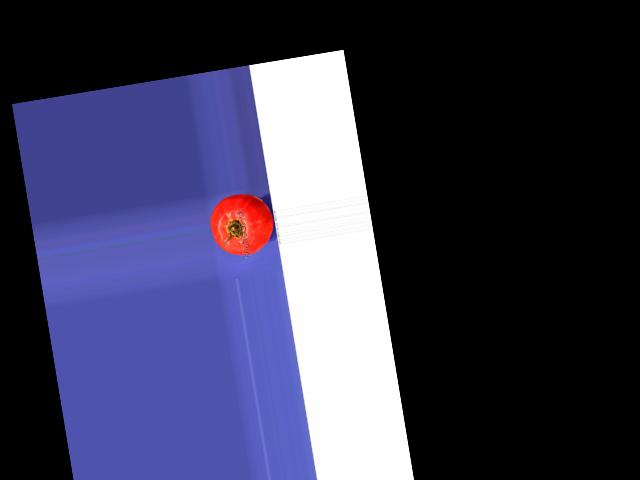tomato: (206, 189, 277, 259)
